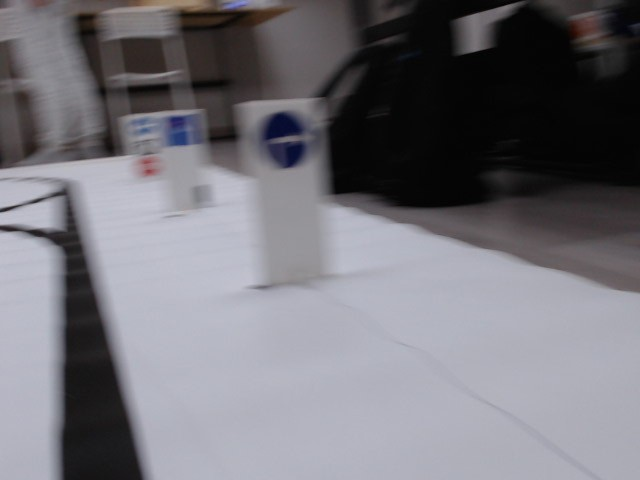Right: (257, 111, 311, 170)
